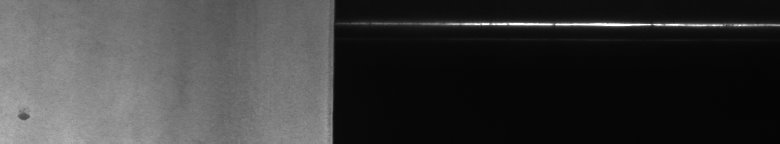fi: (15, 101, 35, 128)
